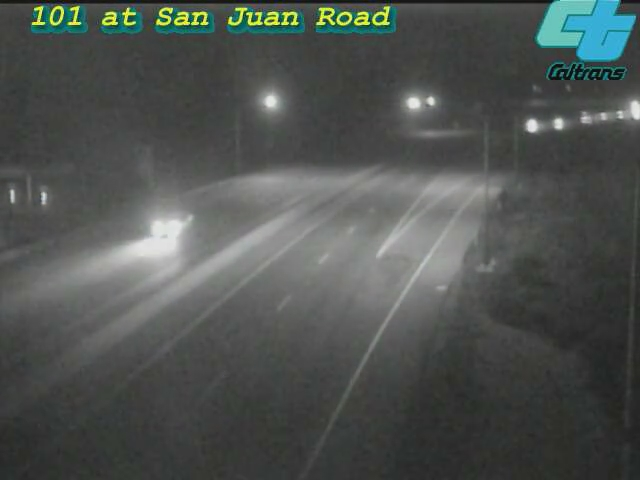vehicle: (128, 189, 208, 269), (579, 91, 629, 141), (562, 93, 612, 143), (538, 98, 588, 148), (507, 101, 557, 151), (596, 90, 640, 140), (610, 84, 640, 134)
